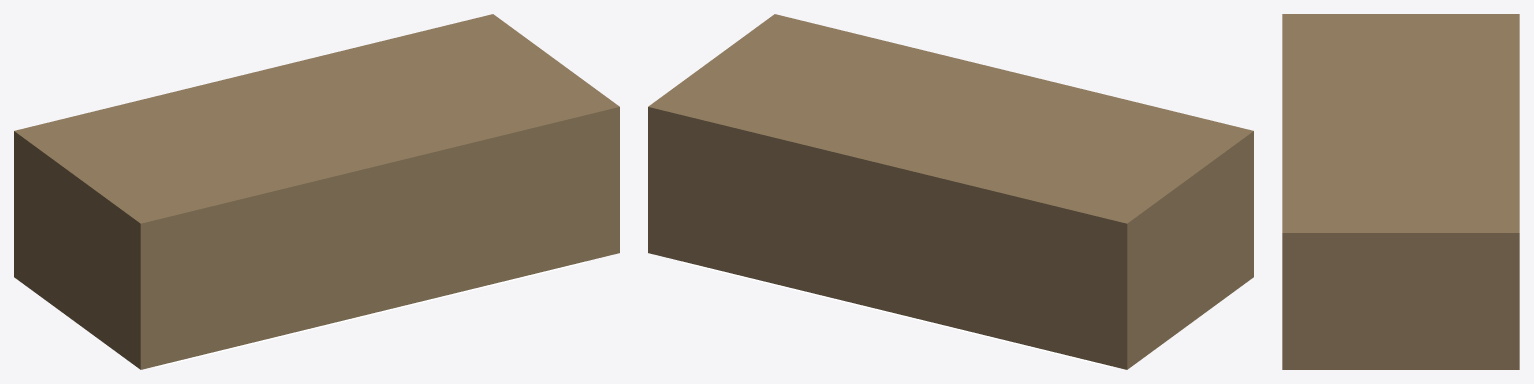
Rendered from source.glb.
The picture shows the model from 3 angles, left to right: view 1: azimuth 30°, elevation 25°; view 2: azimuth 150°, elevation 25°; view 3: azimuth 270°, elevation 25°; orthographic projection. The views are drawn at different scales.
Visible parts, largest first — view 1: Concept housing, Emitters; view 2: Concept housing, Emitters; view 3: Concept housing.
Part boxes in pixels (x1=…): Concept housing: x1=14, y1=14, x2=619, y2=369; Emitters: x1=154, y1=261, x2=586, y2=367; Concept housing: x1=648, y1=14, x2=1253, y2=369; Emitters: x1=681, y1=261, x2=1113, y2=367; Concept housing: x1=1282, y1=14, x2=1519, y2=369.
Bounding box in the file's own units: 0.12 × 0.0375 × 0.055.
